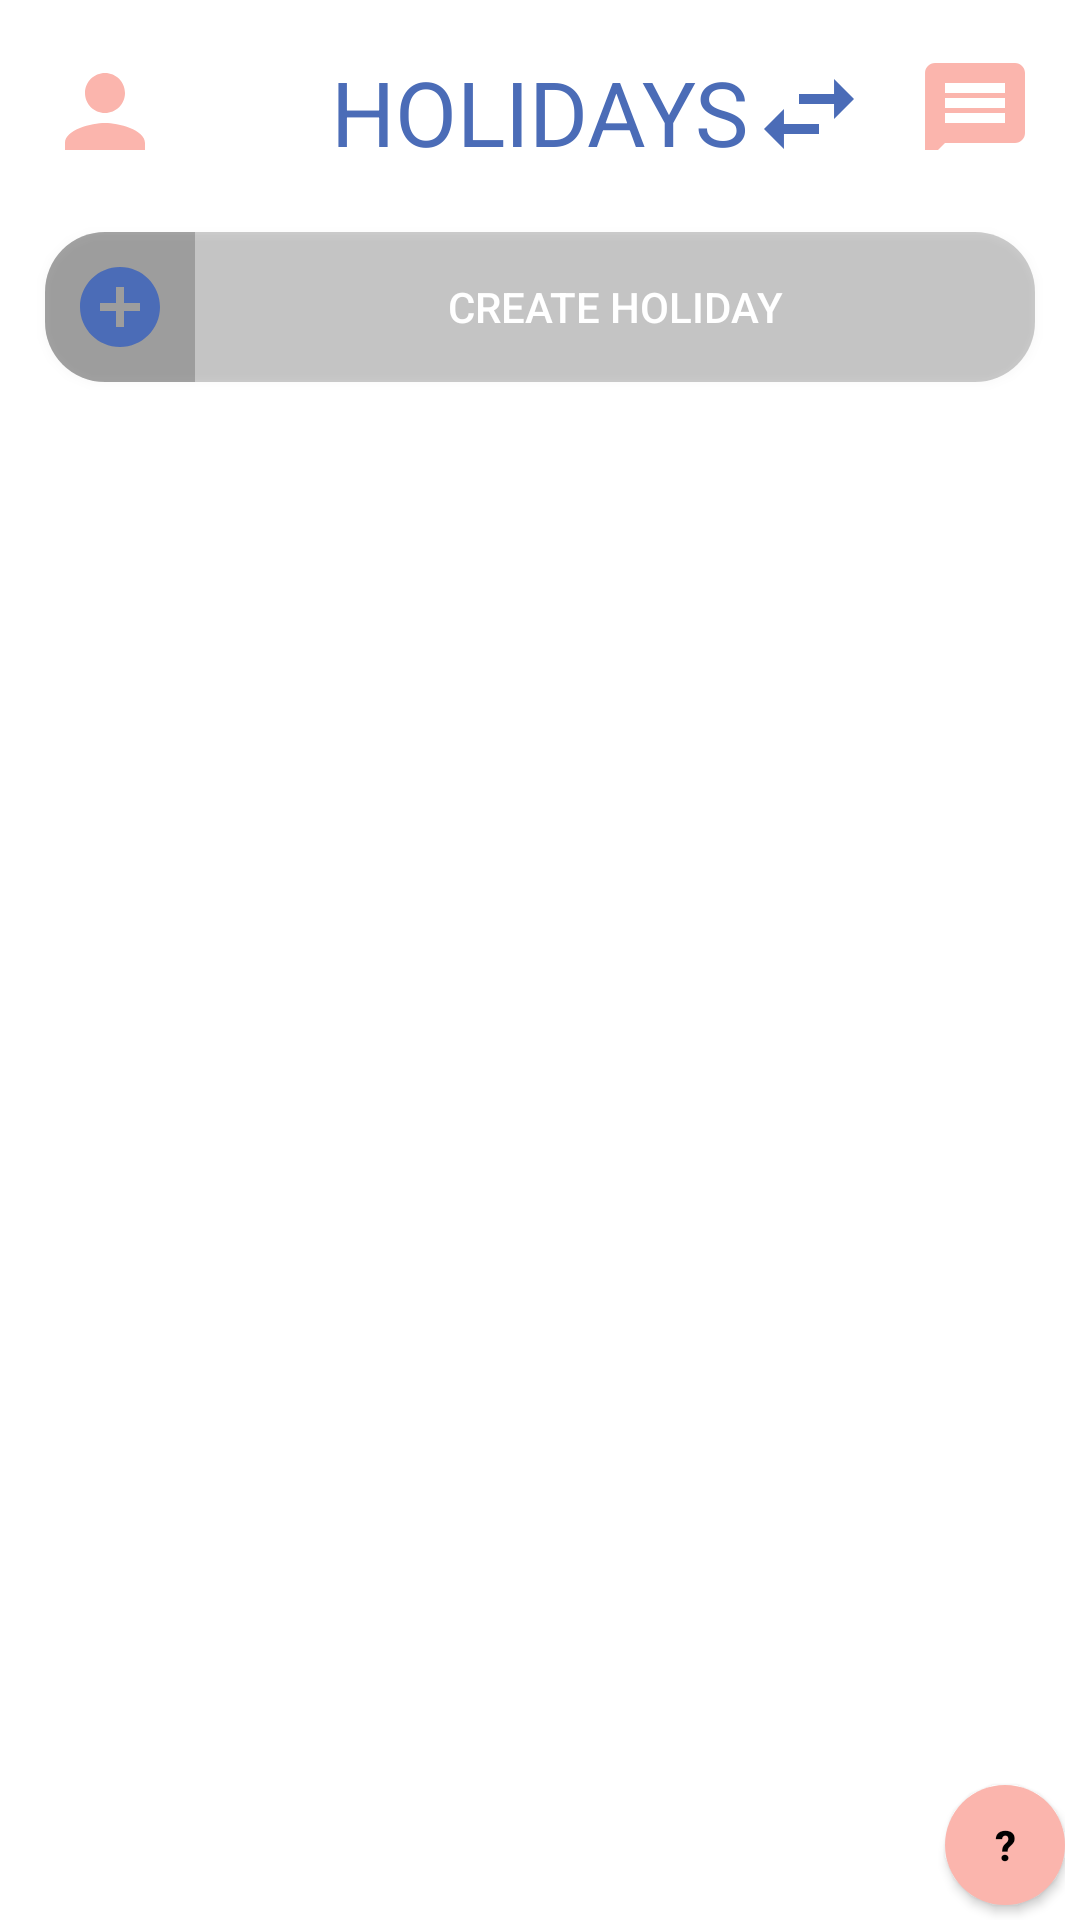

Screen size 1080px×1920px. Icon name, then its center in pixels as point (x, y):
message: point (975, 106)
person: point (105, 111)
swap horiz: point (809, 114)
